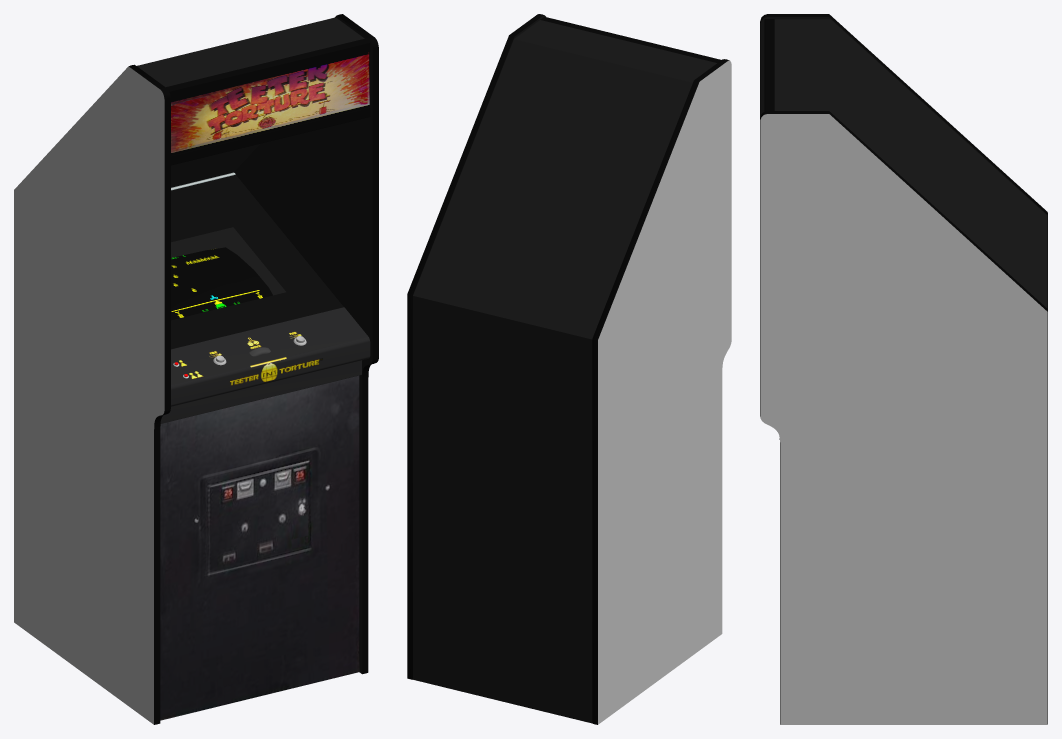
The model's file is teetert.FBX.
3 renders of one model, left to right at view 1: azimuth 30°, elevation 25°; view 2: azimuth 150°, elevation 25°; view 3: azimuth 270°, elevation 25°, orthographic. The views are drawn at different scales.
Parts seen in each view (by area): view 1: teetert-various, teetert-coinpanel, teetert-black, teetert-shinyblack, teetert-bezel, teetert-amarquee, teetert-amonitor; view 2: teetert-black, teetert-various, teetert-shinyblack; view 3: teetert-various, teetert-black, teetert-shinyblack.
Boxes of the visible parts, left/top/right/bottom form: teetert-various: left=14, top=66, right=370, bottom=724; teetert-coinpanel: left=160, top=375, right=359, bottom=720; teetert-black: left=137, top=15, right=372, bottom=673; teetert-shinyblack: left=129, top=14, right=378, bottom=724; teetert-bezel: left=171, top=174, right=343, bottom=349; teetert-amarquee: left=171, top=52, right=369, bottom=155; teetert-amonitor: left=171, top=247, right=272, bottom=320; teetert-black: left=413, top=15, right=716, bottom=723; teetert-various: left=598, top=60, right=731, bottom=724; teetert-shinyblack: left=407, top=14, right=729, bottom=724; teetert-various: left=760, top=114, right=1047, bottom=724; teetert-black: left=760, top=17, right=1047, bottom=308; teetert-shinyblack: left=760, top=14, right=1047, bottom=724.
Size of the model in its own units: 64.77 by 185 by 78.9.
9 materials, 5 textured.
